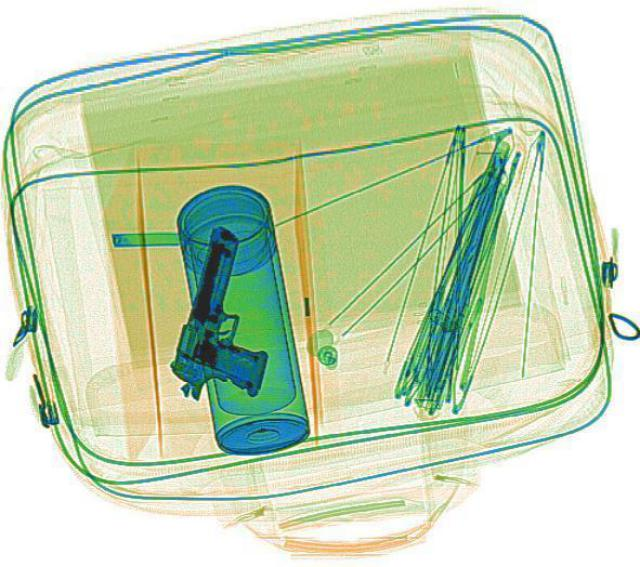Gun: (156, 222, 308, 411)
